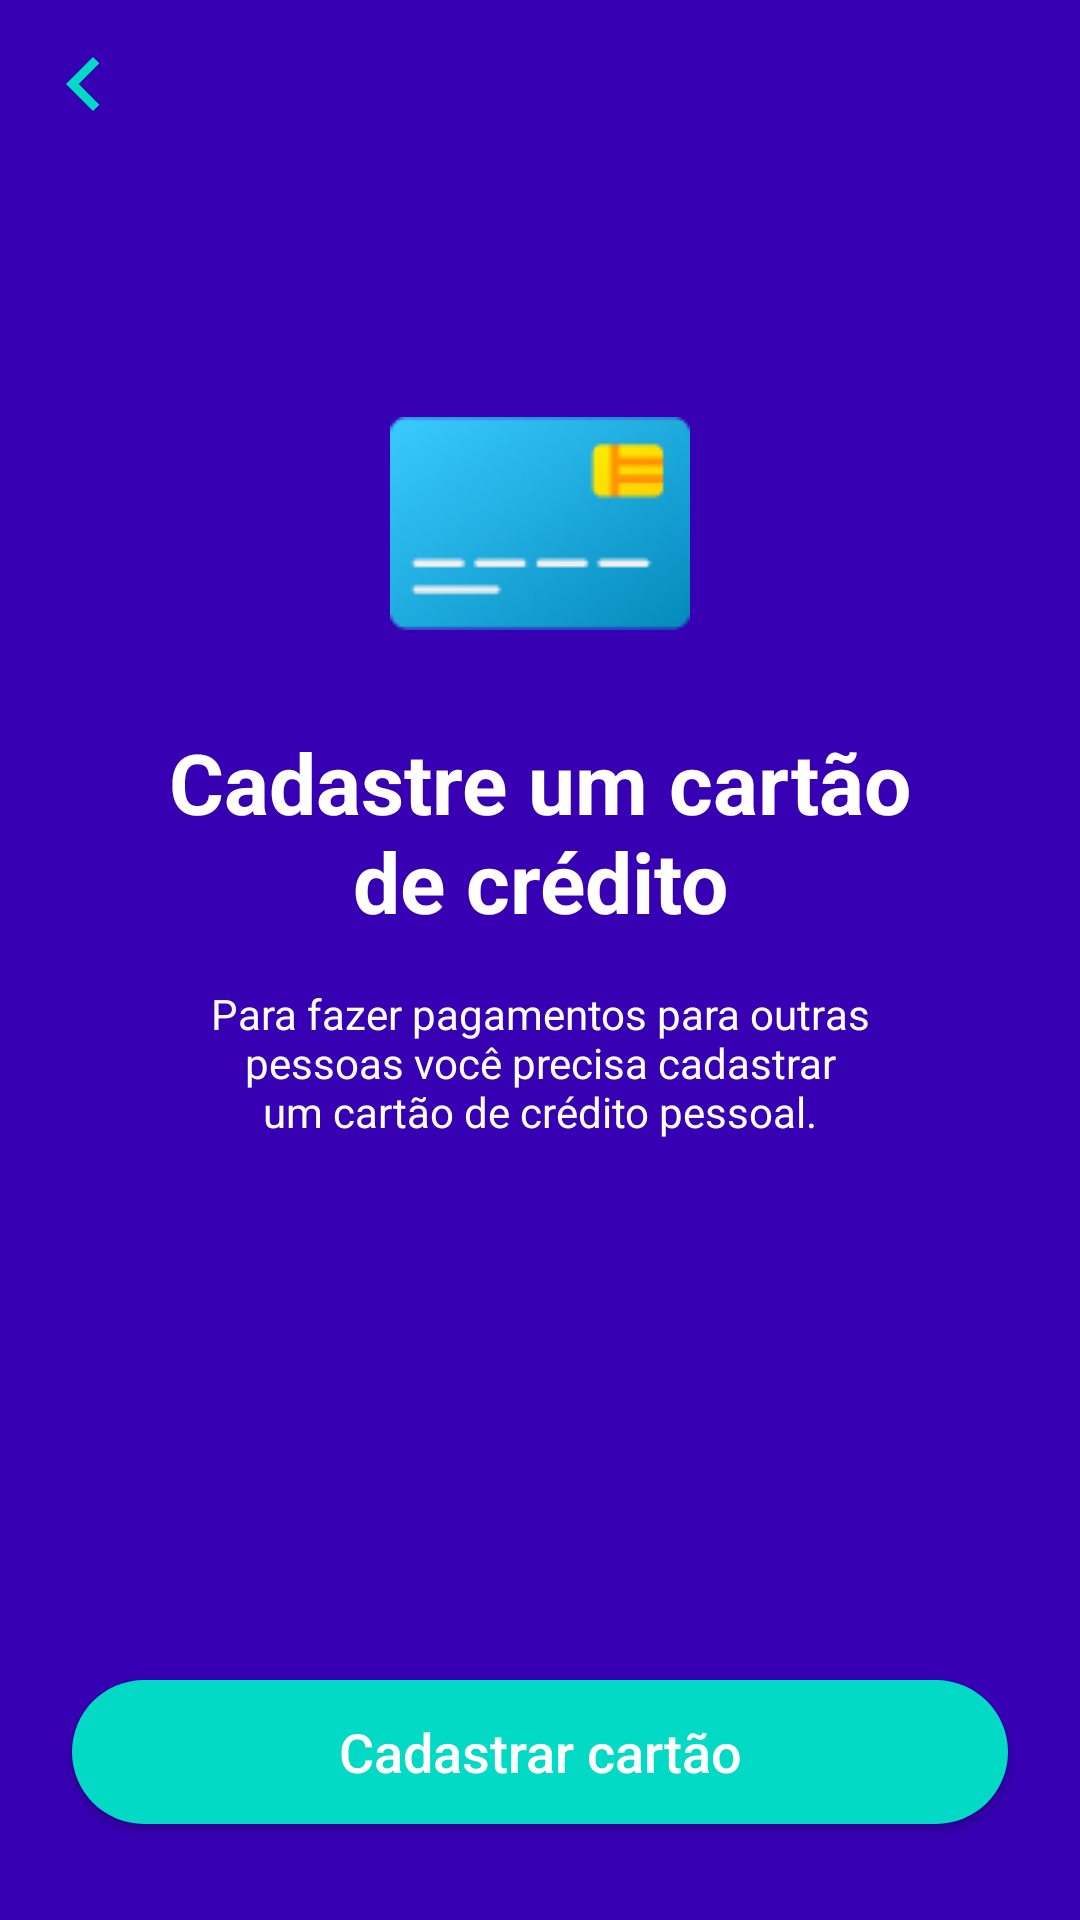

Named icons in this screenshot (1080w x 1920h) and their centers, [x,y]:
card ilustration: [540,523]
